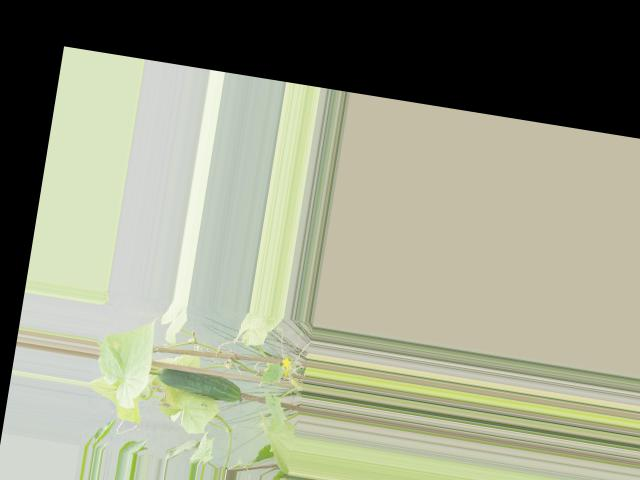cucumber: (156, 366, 245, 404)
